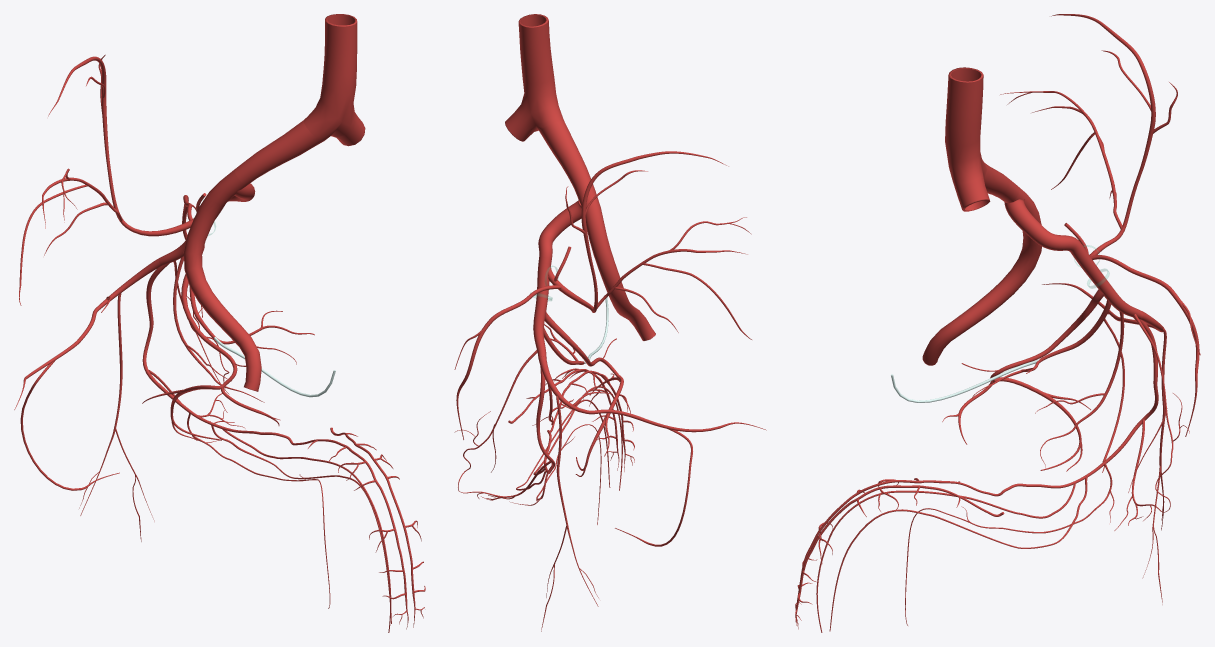
File: open3d-pelvicfloor-arterial-01.glb
3 renders of one model, left to right at view 1: azimuth 30°, elevation 25°; view 2: azimuth 150°, elevation 25°; view 3: azimuth 270°, elevation 25°, orthographic. The views are drawn at different scales.
Visible parts, largest first — view 1: O3D_0e08e38e941938, O3D_3fb578999e1f5b, O3D_0c1f4a48979b2f, O3D_4e49016c994403, O3D_67f34a05f58157, O3D_3e047449c00f22, O3D_465dffd865ff7a, O3D_332fd17f2d2831, O3D_266c6c1e791870, O3D_0e4407451d8350, O3D_fe1ce28956560e, O3D_5616c947456a96 (+1 smaller); view 2: O3D_0e08e38e941938, O3D_0c1f4a48979b2f, O3D_3fb578999e1f5b, O3D_4e49016c994403, O3D_fe1ce28956560e, O3D_67f34a05f58157, O3D_3e047449c00f22, O3D_465dffd865ff7a, O3D_d688820e0bbd9f, O3D_332fd17f2d2831, O3D_8362004acb13b1, O3D_3f72da578e362b; view 3: O3D_0e08e38e941938, O3D_3fb578999e1f5b, O3D_0c1f4a48979b2f, O3D_fe1ce28956560e, O3D_3e047449c00f22, O3D_465dffd865ff7a, O3D_4e49016c994403, O3D_332fd17f2d2831, O3D_d688820e0bbd9f, O3D_266c6c1e791870, O3D_5616c947456a96, O3D_8362004acb13b1 (+5 smaller).
Part boxes in pixels (bbox=[...]): O3D_0e08e38e941938: bbox=[303, 14, 357, 141]; O3D_3fb578999e1f5b: bbox=[183, 169, 261, 391]; O3D_0c1f4a48979b2f: bbox=[19, 54, 193, 305]; O3D_4e49016c994403: bbox=[14, 258, 161, 541]; O3D_67f34a05f58157: bbox=[234, 120, 323, 185]; O3D_3e047449c00f22: bbox=[288, 427, 425, 629]; O3D_465dffd865ff7a: bbox=[142, 245, 280, 440]; O3D_332fd17f2d2831: bbox=[142, 263, 289, 438]; O3D_266c6c1e791870: bbox=[222, 429, 391, 632]; O3D_0e4407451d8350: bbox=[173, 256, 264, 402]; O3D_fe1ce28956560e: bbox=[158, 183, 255, 265]; O3D_5616c947456a96: bbox=[210, 421, 391, 623]; O3D_0e08e38e941938: bbox=[517, 14, 564, 132]; O3D_0c1f4a48979b2f: bbox=[548, 151, 751, 339]; O3D_3fb578999e1f5b: bbox=[577, 189, 655, 340]; O3D_4e49016c994403: bbox=[538, 355, 766, 631]; O3D_fe1ce28956560e: bbox=[533, 200, 581, 357]; O3D_67f34a05f58157: bbox=[540, 121, 595, 196]; O3D_3e047449c00f22: bbox=[508, 368, 634, 471]; O3D_465dffd865ff7a: bbox=[544, 312, 623, 476]; O3D_d688820e0bbd9f: bbox=[454, 285, 561, 439]; O3D_332fd17f2d2831: bbox=[536, 366, 555, 473]; O3D_8362004acb13b1: bbox=[505, 109, 535, 141]; O3D_3f72da578e362b: bbox=[454, 350, 537, 490]; O3D_0e08e38e941938: bbox=[945, 67, 986, 187]; O3D_3fb578999e1f5b: bbox=[922, 186, 1041, 365]; O3D_0c1f4a48979b2f: bbox=[1000, 14, 1177, 256]; O3D_fe1ce28956560e: bbox=[1004, 199, 1143, 319]; O3D_3e047449c00f22: bbox=[795, 478, 1004, 629]; O3D_465dffd865ff7a: bbox=[942, 289, 1103, 471]; O3D_4e49016c994403: bbox=[1042, 283, 1166, 604]; O3D_332fd17f2d2831: bbox=[1002, 317, 1158, 492]; O3D_d688820e0bbd9f: bbox=[1090, 255, 1200, 436]; O3D_266c6c1e791870: bbox=[816, 483, 1075, 632]; O3D_5616c947456a96: bbox=[829, 476, 1087, 631]; O3D_8362004acb13b1: bbox=[955, 178, 990, 211].
Size of the model in its own units: 0.1619 by 0.2791 by 0.176.
